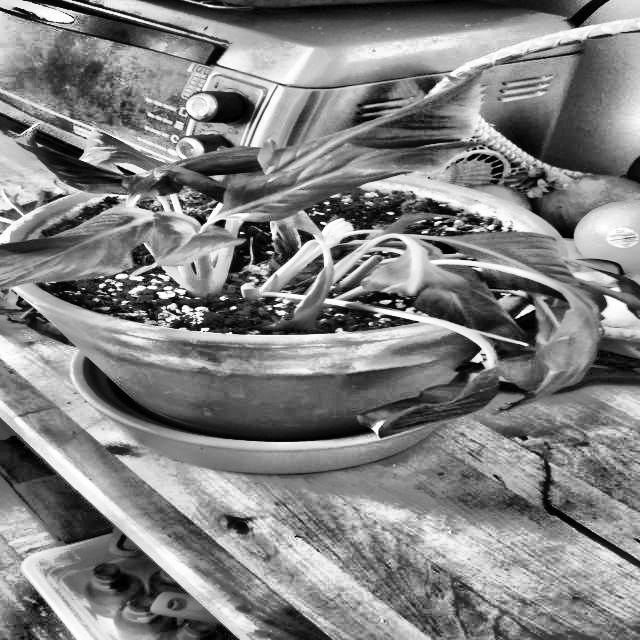plants: (7, 111, 615, 477), (252, 273, 550, 433)
